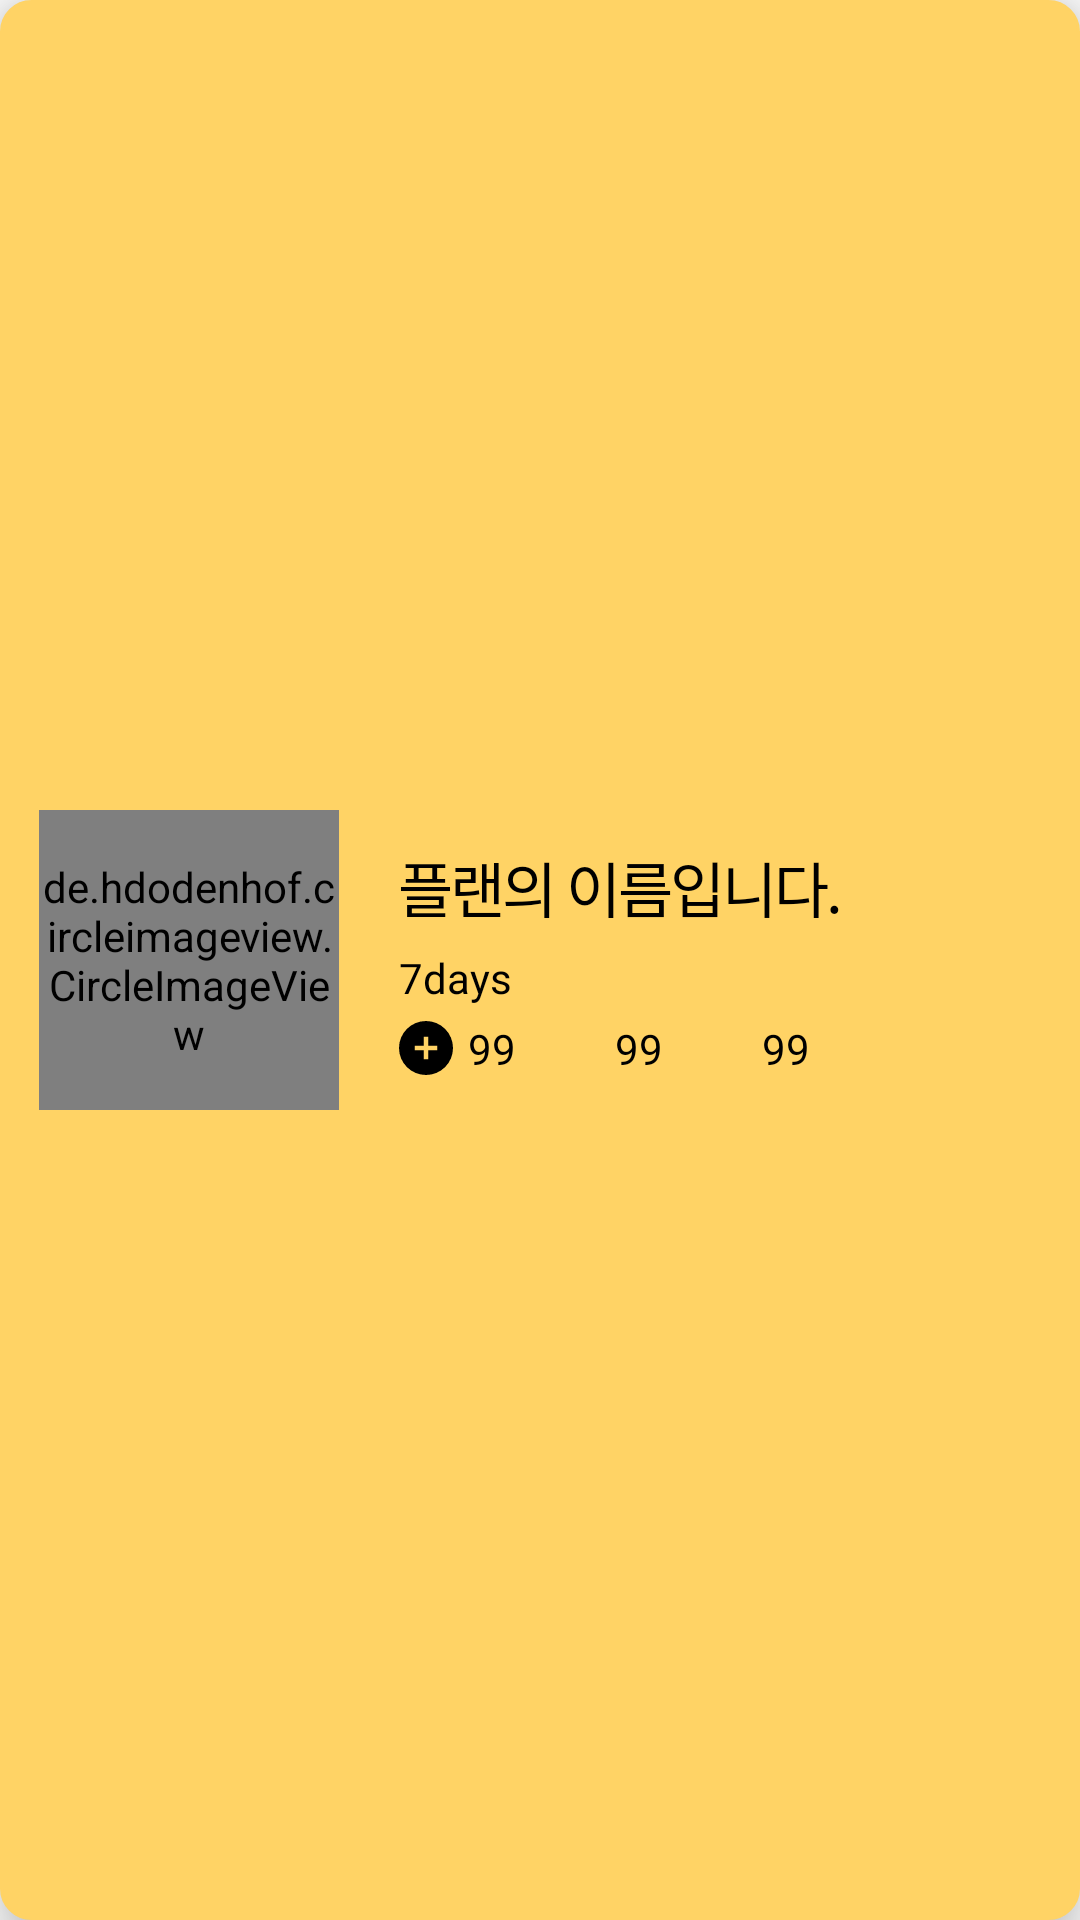

Where to tap for icons on this 1080px×1920px app screen, as point (x, y):
add: point (426, 1048)
